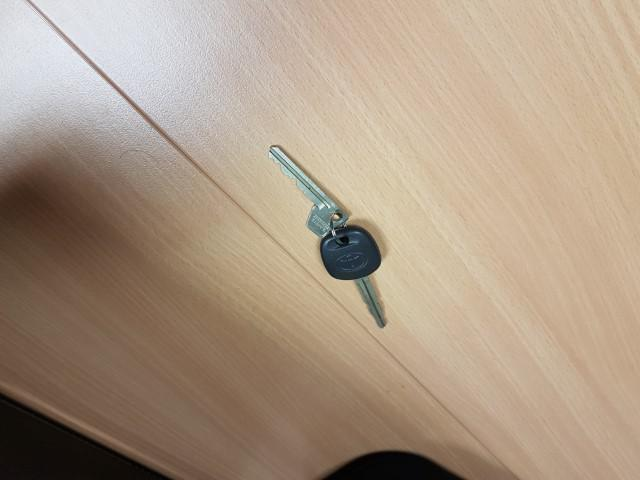key: (311, 223, 395, 333)
